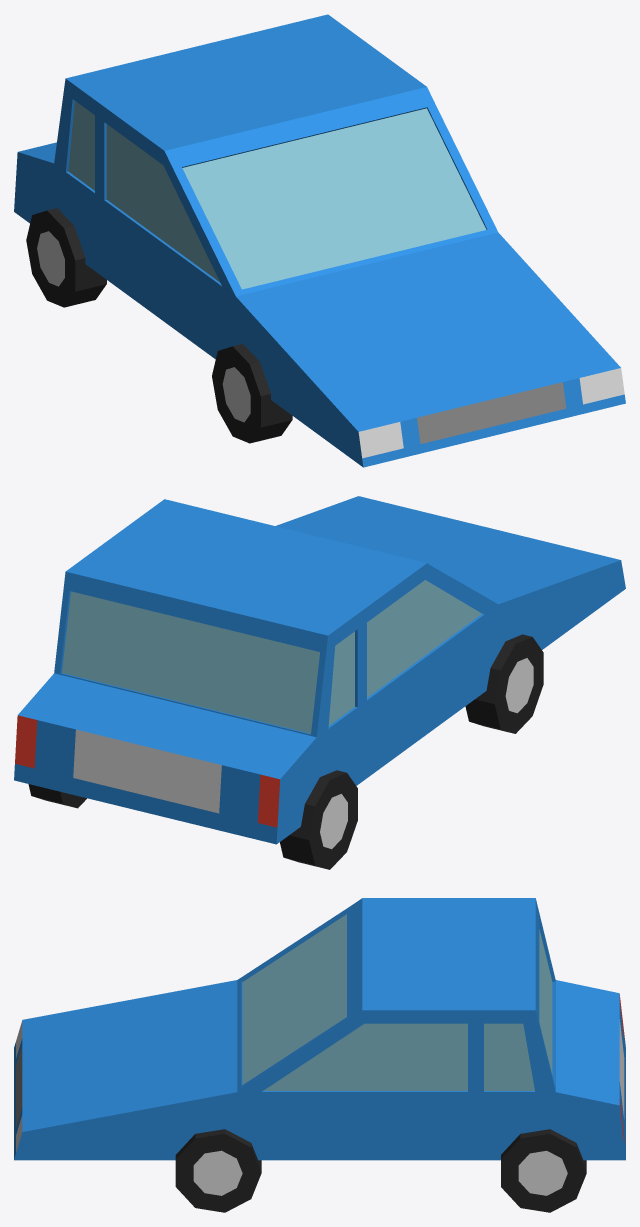
The model's file is blue_car.glb.
3 renders of one model, top to bottom at view 1: azimuth 30°, elevation 25°; view 2: azimuth 150°, elevation 25°; view 3: azimuth 270°, elevation 25°, orthographic. The views are drawn at different scales.
Visible parts, largest first — view 1: blue_coupe; view 2: blue_coupe; view 3: blue_coupe.
Part boxes in pixels (<box>): blue_coupe: <box>14,14,625,467</box>; blue_coupe: <box>14,496,625,869</box>; blue_coupe: <box>14,898,625,1212</box>.
Size of the model in its own units: 2.04 by 1.55 by 4.35.
